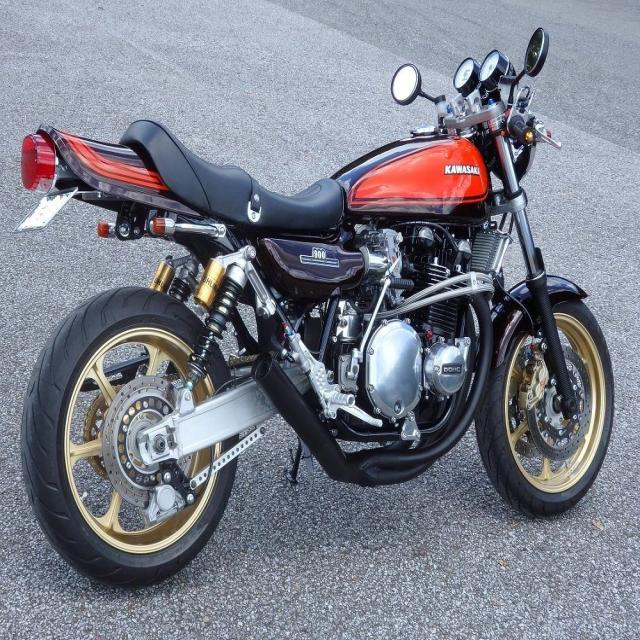Motorcycle: (20, 62, 616, 587)
